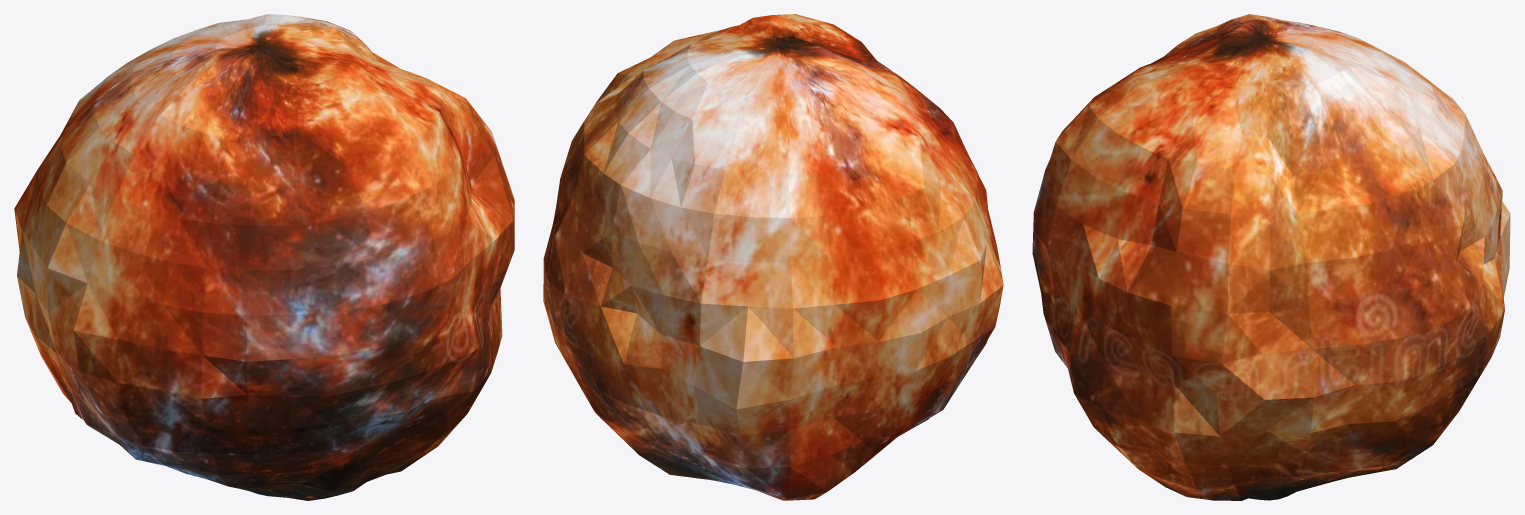
Rendered from planeta2.fbx.
3 views of the same model, side by side, from view 1: azimuth 30°, elevation 25°; view 2: azimuth 150°, elevation 25°; view 3: azimuth 270°, elevation 25° (orthographic). The views are drawn at different scales.
Parts seen in each view (by area): view 1: Sphere; view 2: Sphere; view 3: Sphere.
Boxes of the visible parts, box(x1,y1,x2,y2) form: Sphere: box(14, 14, 514, 500); Sphere: box(543, 14, 1003, 500); Sphere: box(1032, 14, 1510, 500).
Size of the model in its own units: 2209 by 2177 by 2145.
1 material, 1 textured.
